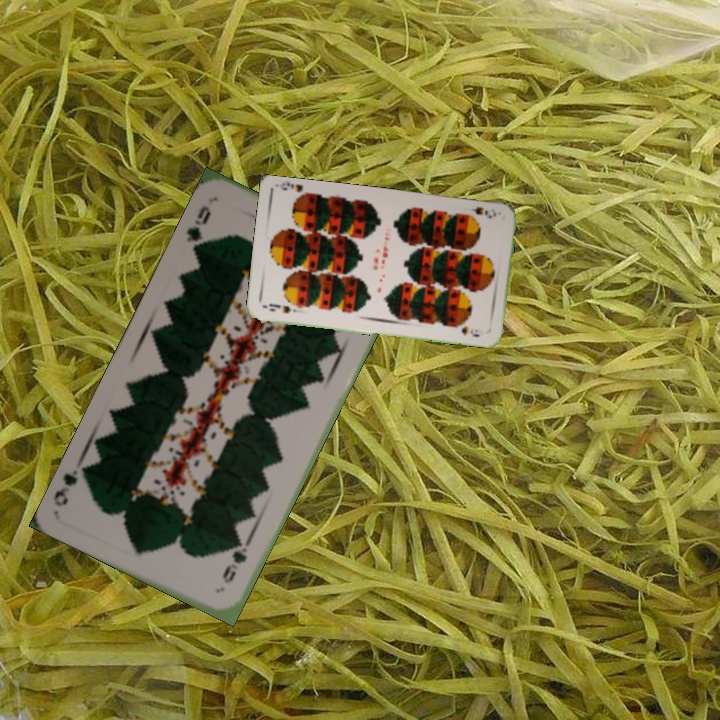G9: (182, 201, 214, 255), (219, 536, 253, 586)
S9: (261, 300, 301, 316), (467, 203, 499, 221)
